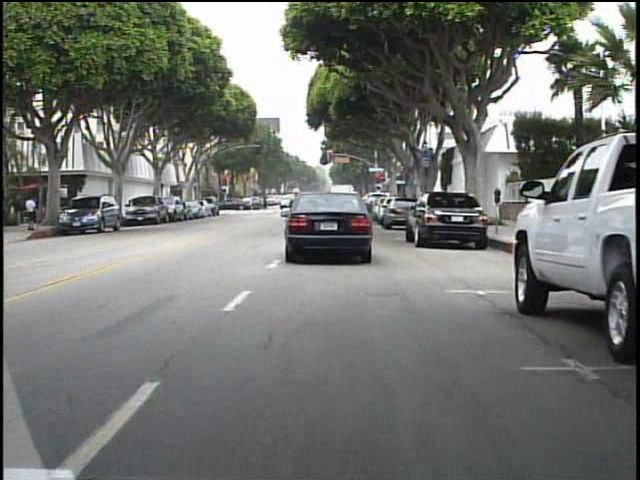person: (26, 192, 44, 235), (261, 192, 274, 216)
